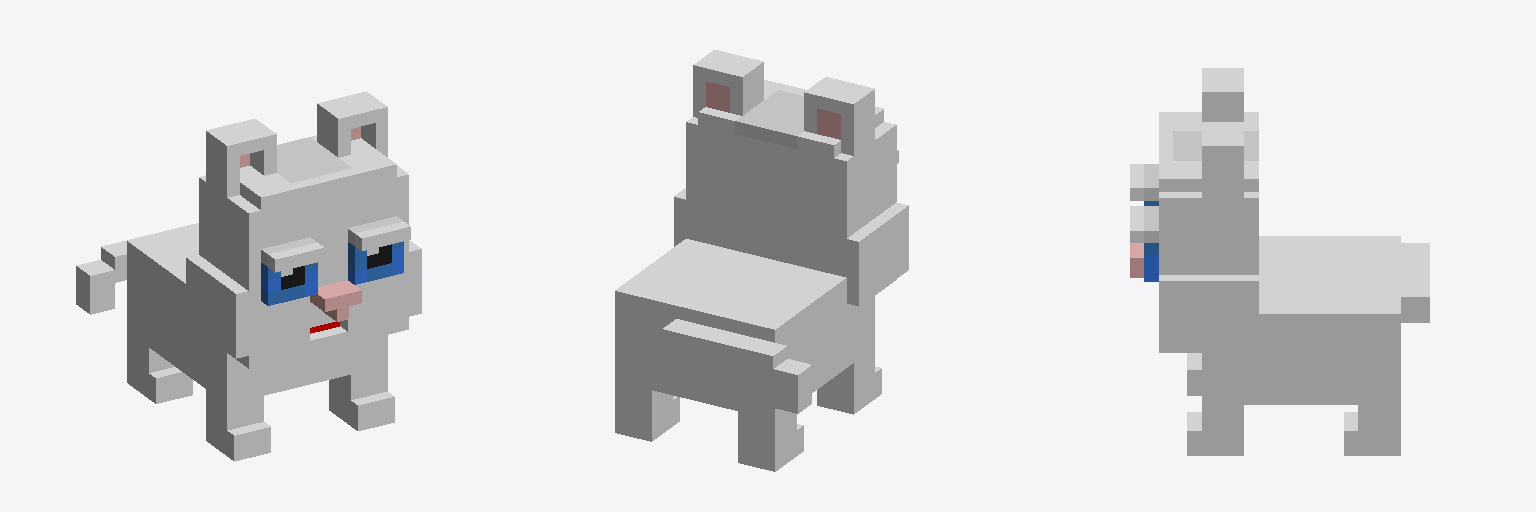
3 views of the same model, side by side, from view 1: azimuth 30°, elevation 25°; view 2: azimuth 150°, elevation 25°; view 3: azimuth 270°, elevation 25° (orthographic).
Visible parts, largest first — view 1: object 1; view 2: object 1; view 3: object 1.
Part boxes in pixels (x1,y1,x2,y2): object 1: (76, 91, 421, 461); object 1: (615, 50, 908, 471); object 1: (1130, 68, 1429, 455).
Bounding box in the file's own units: 1.7 × 2.4 × 2.1.
1 materials, 1 textured.